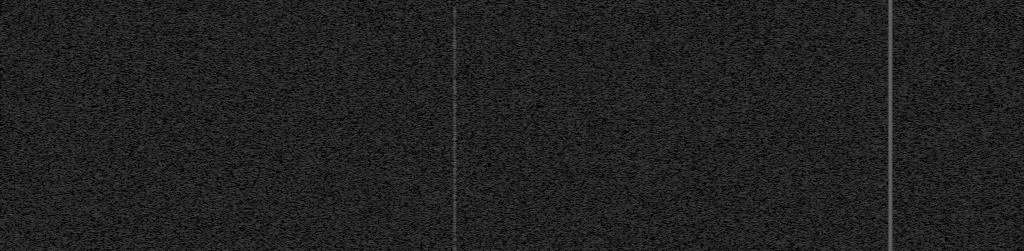wv_cw: (879, 0, 901, 251)
wv_lsb: (449, 6, 460, 251), (638, 223, 643, 251), (638, 17, 642, 32), (638, 4, 642, 16), (639, 34, 642, 49), (638, 72, 642, 81), (639, 185, 642, 195), (638, 91, 642, 98), (639, 109, 642, 118), (639, 99, 642, 108), (639, 174, 642, 183), (639, 82, 642, 90), (638, 60, 642, 66), (639, 50, 642, 56), (639, 138, 642, 143), (639, 167, 642, 172), (639, 128, 642, 132), (639, 119, 642, 123), (639, 67, 642, 71), (639, 202, 642, 206), (639, 149, 642, 152), (639, 144, 642, 147), (639, 124, 642, 127), (639, 163, 642, 166), (639, 158, 642, 161), (639, 154, 642, 157)
